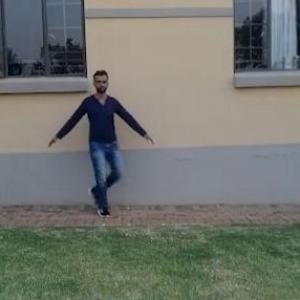land: (48, 71, 148, 224)
